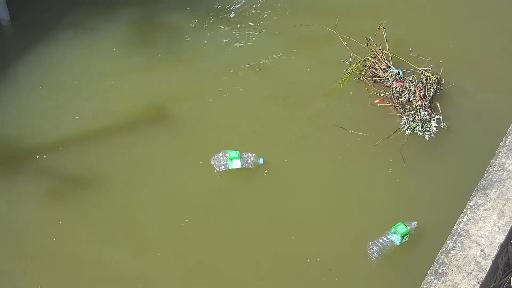plastic: (357, 216, 419, 259), (201, 146, 268, 180)
twig: (319, 18, 456, 163)
